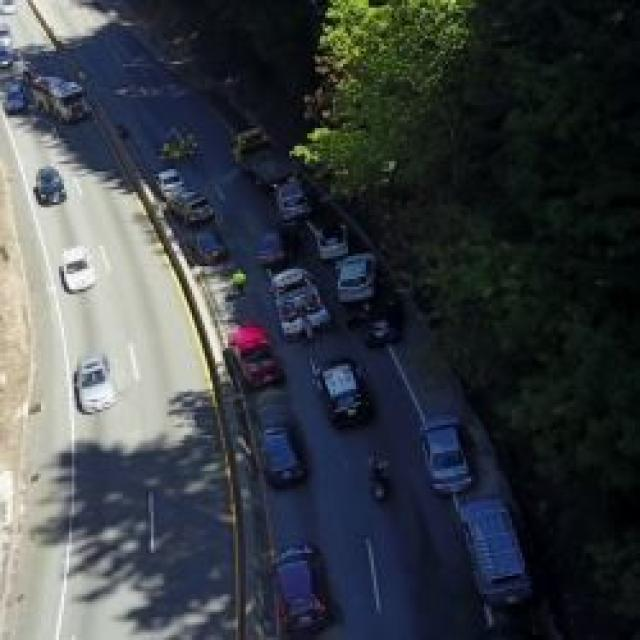traffic_incident: (235, 126, 315, 230), (154, 169, 230, 271), (330, 256, 397, 358)
